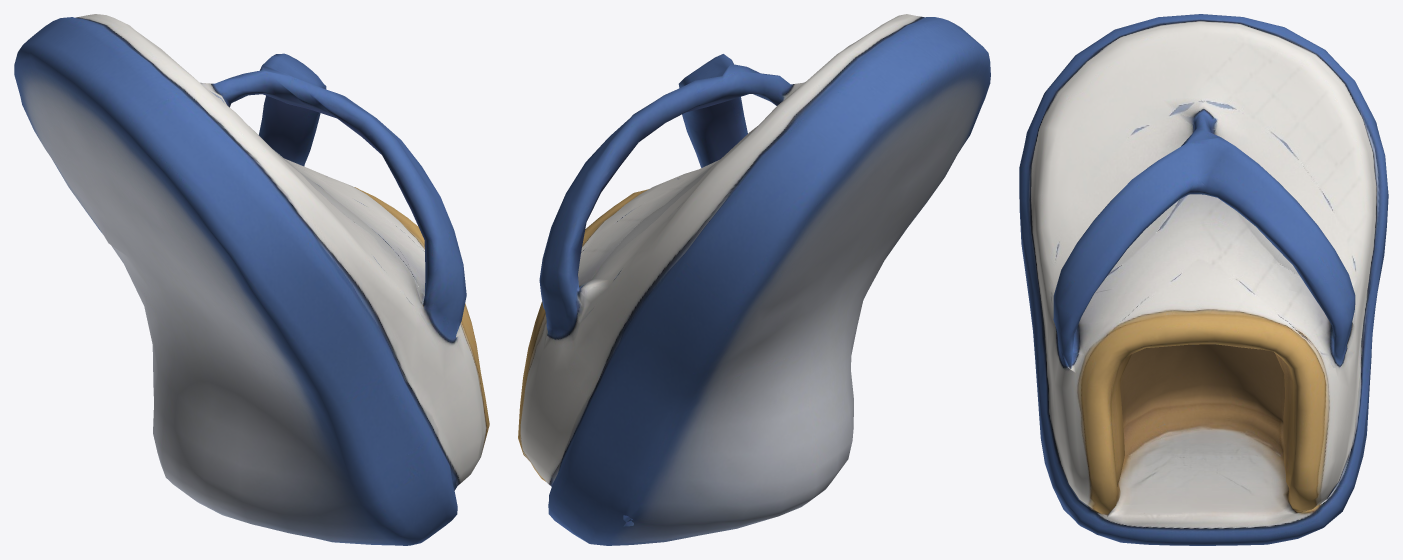
The model's file is tripo_convert_7b4153e2-fca6-4a20-b38f-7c3451fd8571.fbx.
The picture shows the model from 3 angles, left to right: view 1: azimuth 30°, elevation 25°; view 2: azimuth 150°, elevation 25°; view 3: azimuth 270°, elevation 25°; orthographic projection. The views are drawn at different scales.
Visible parts, largest first — view 1: tripo_node_7b4153e2; view 2: tripo_node_7b4153e2; view 3: tripo_node_7b4153e2.
Part boxes in pixels (x1,y1,x2,y2): tripo_node_7b4153e2: [14, 14, 489, 545]; tripo_node_7b4153e2: [518, 14, 990, 545]; tripo_node_7b4153e2: [1019, 14, 1388, 545].
Size of the model in its own units: 0.7136 by 0.992 by 0.7796.
Materials: 1 (1 with a texture image).
